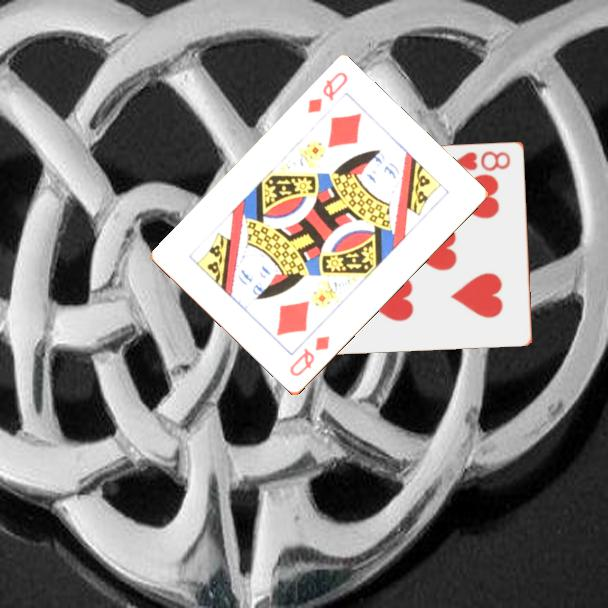d12: (304, 69, 351, 117), (286, 333, 333, 380)
h08: (452, 147, 513, 174)
